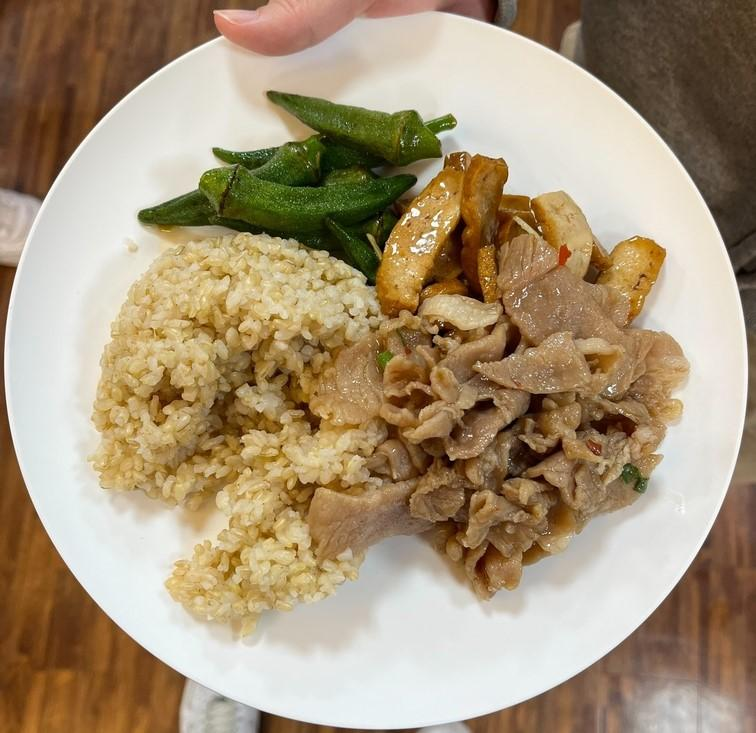big fried chicken leg: (4, 0, 756, 727)
box: (84, 229, 400, 637)
braised fish fillet: (137, 83, 459, 258), (377, 152, 671, 328)
braised pork: (376, 273, 691, 603)
